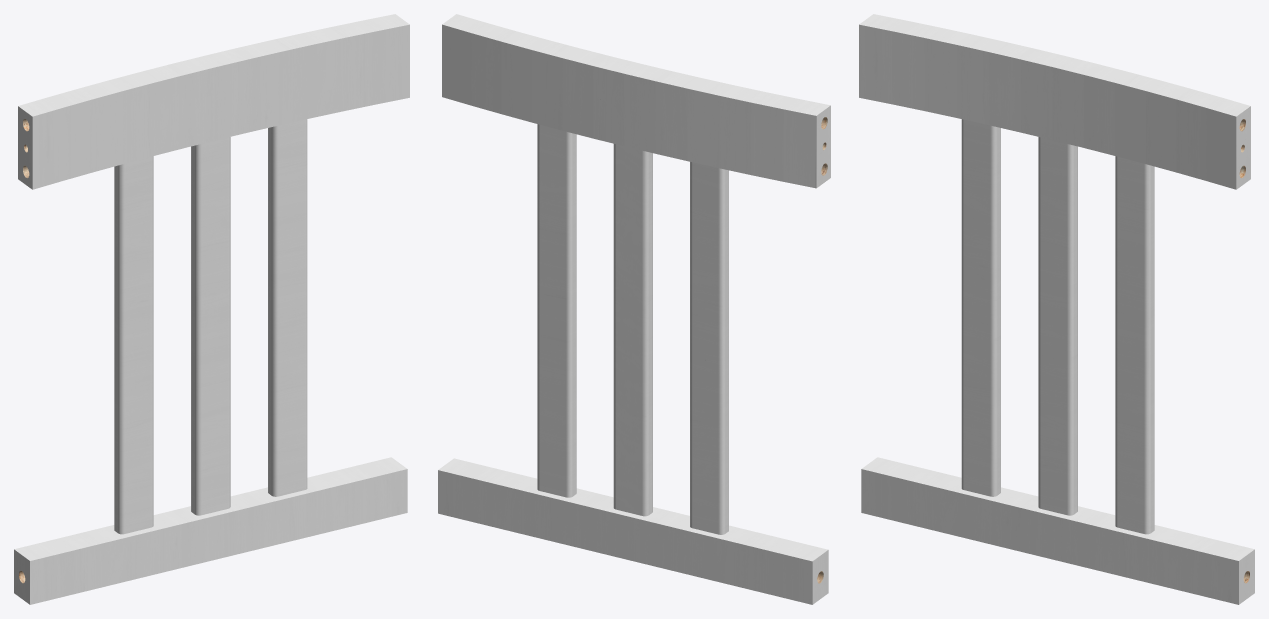
Rendered from Ikea_stefan_middle.obj.
The picture shows the model from 3 angles, left to right: view 1: azimuth 30°, elevation 25°; view 2: azimuth 150°, elevation 25°; view 3: azimuth 330°, elevation 25°; orthographic projection.
Visible parts, largest first — view 1: Ikea_stefan_middle; view 2: Ikea_stefan_middle; view 3: Ikea_stefan_middle.
Boxes of the visible parts, box(x1,y1,x2,y2) form: Ikea_stefan_middle: box(14, 14, 409, 604); Ikea_stefan_middle: box(438, 14, 830, 604); Ikea_stefan_middle: box(859, 14, 1254, 604).
Size of the model in its own units: 270 by 335 by 24.09.
1 material, 1 textured.
